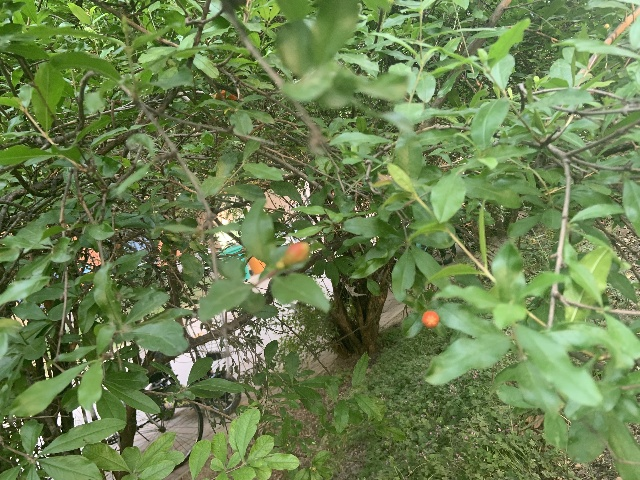bud: (281, 242, 309, 266), (422, 310, 439, 327)
